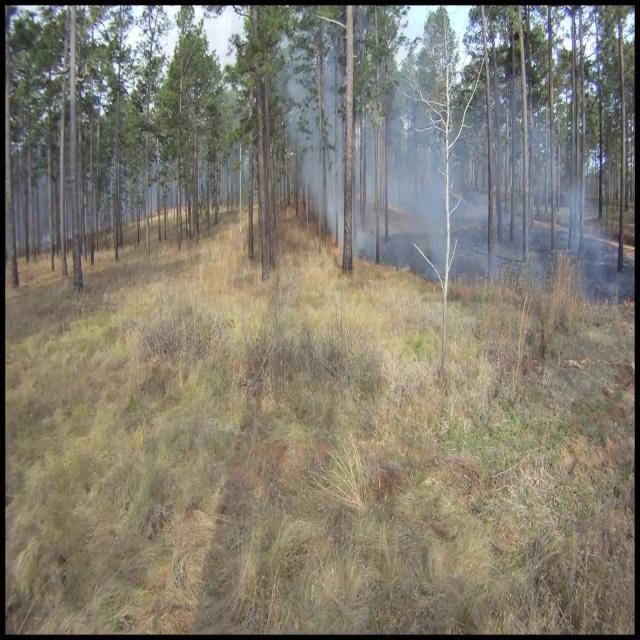Smoke: (296, 56, 612, 270)
